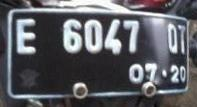clone-license-plate: (20, 4, 178, 103)
